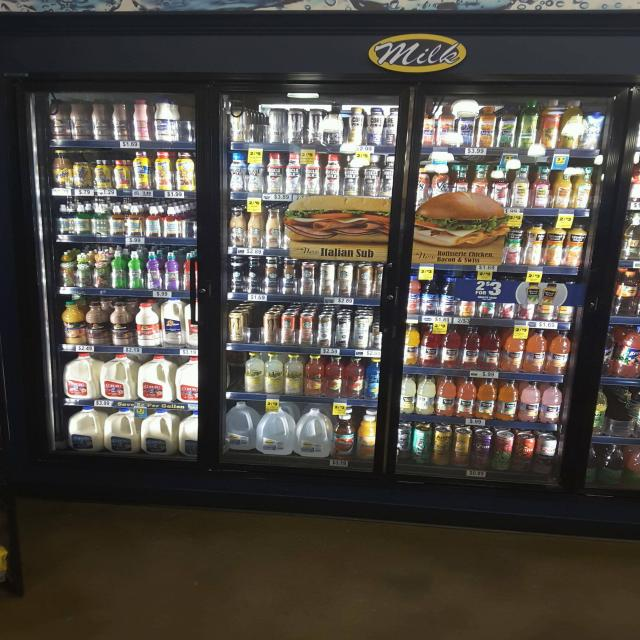empty: (242, 306, 268, 347), (226, 351, 246, 403), (174, 99, 196, 146)
